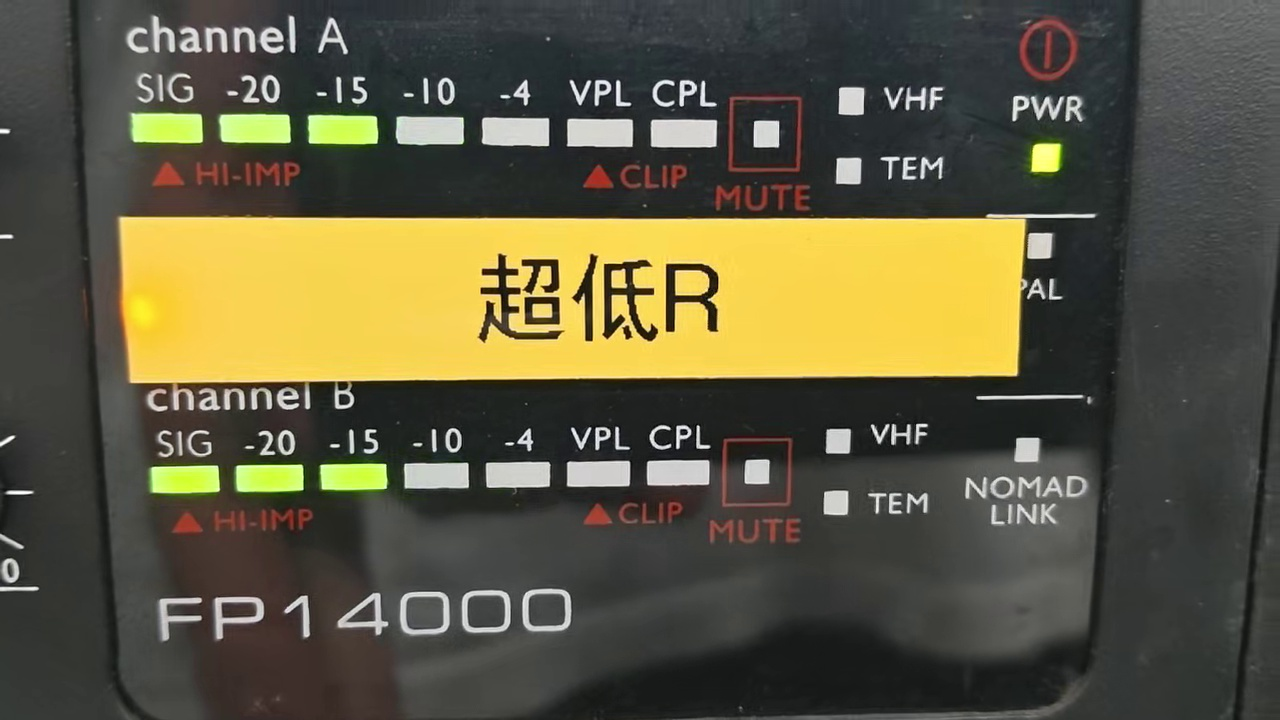FP_CPL: (639, 68, 723, 158), (641, 418, 714, 500)
FP_PWR: (1004, 87, 1091, 182)
FP_PWR_area: (995, 15, 1098, 214)
FP_SIG_area: (123, 68, 952, 214), (145, 415, 941, 542)
FP_VPL: (562, 70, 637, 159), (561, 420, 633, 502)
